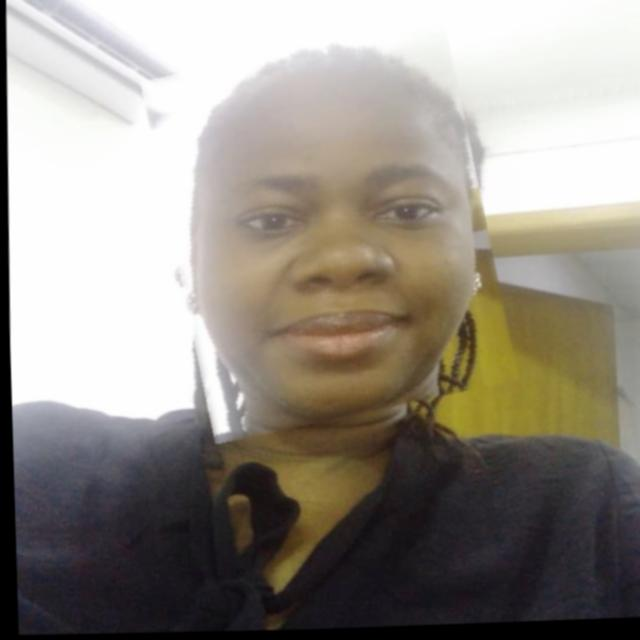happy: (149, 26, 507, 439)
